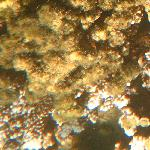dead: (2, 2, 145, 147)
